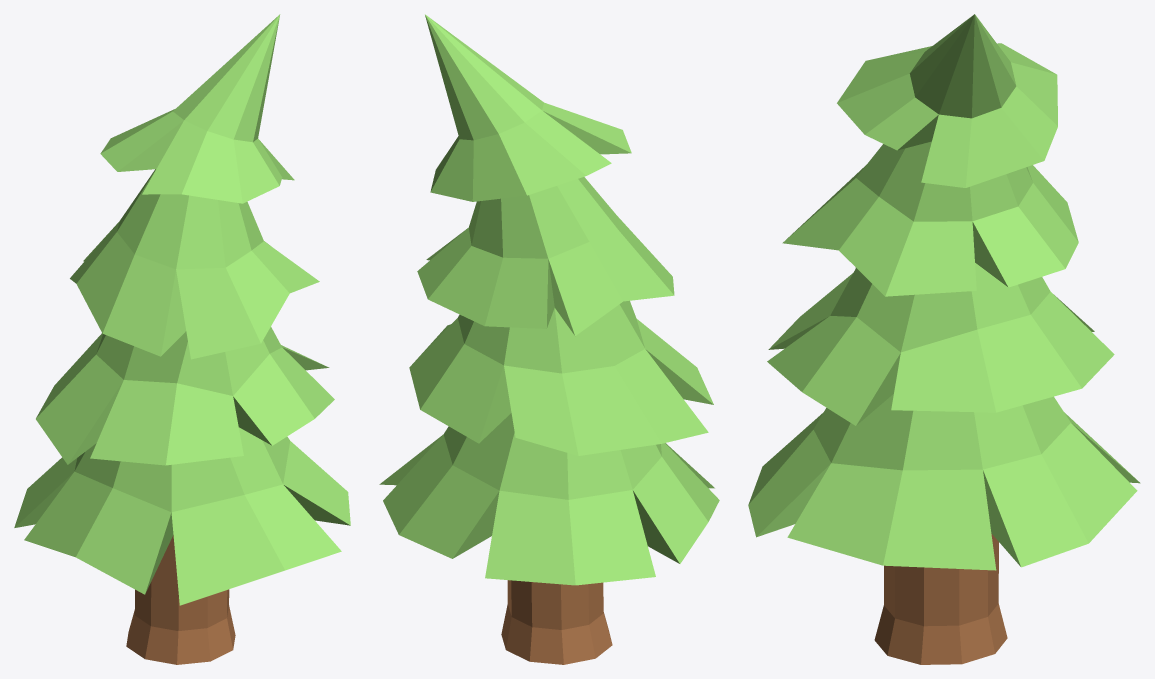
Rendered from Tree2.1Rot.fbx.
The picture shows the model from 3 angles, left to right: view 1: azimuth 30°, elevation 25°; view 2: azimuth 150°, elevation 25°; view 3: azimuth 270°, elevation 25°; orthographic projection. The views are drawn at different scales.
Parts seen in each view (by area): view 1: Tree2.1Rot; view 2: Tree2.1Rot; view 3: Tree2.1Rot.
Boxes of the visible parts, x1,y1,x2,y2 form: Tree2.1Rot: (14,14,350,664); Tree2.1Rot: (379,14,719,664); Tree2.1Rot: (748,14,1140,664).
Bounding box in the file's own units: 358 × 704 × 362.
